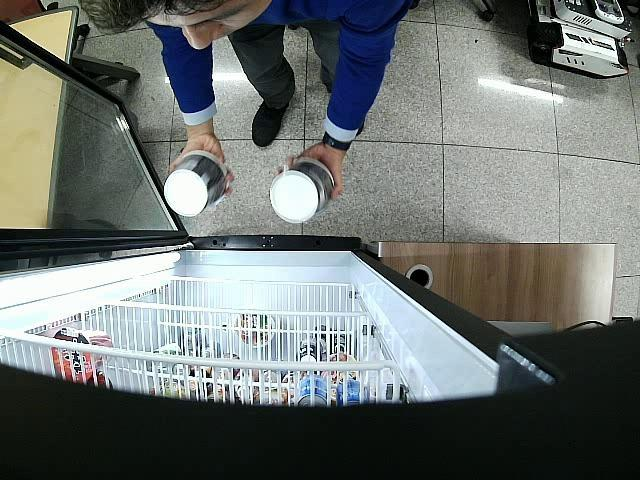07_buldak_L: (270, 157, 334, 223), (165, 152, 228, 216)
